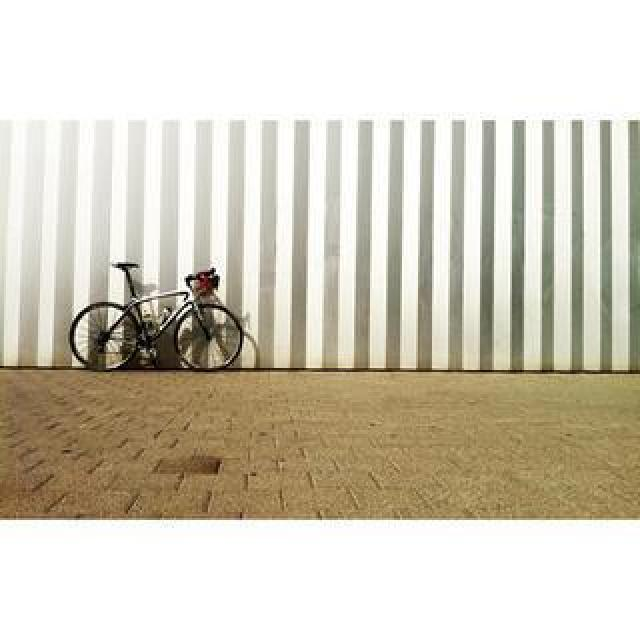Person: (69, 262, 247, 372)
